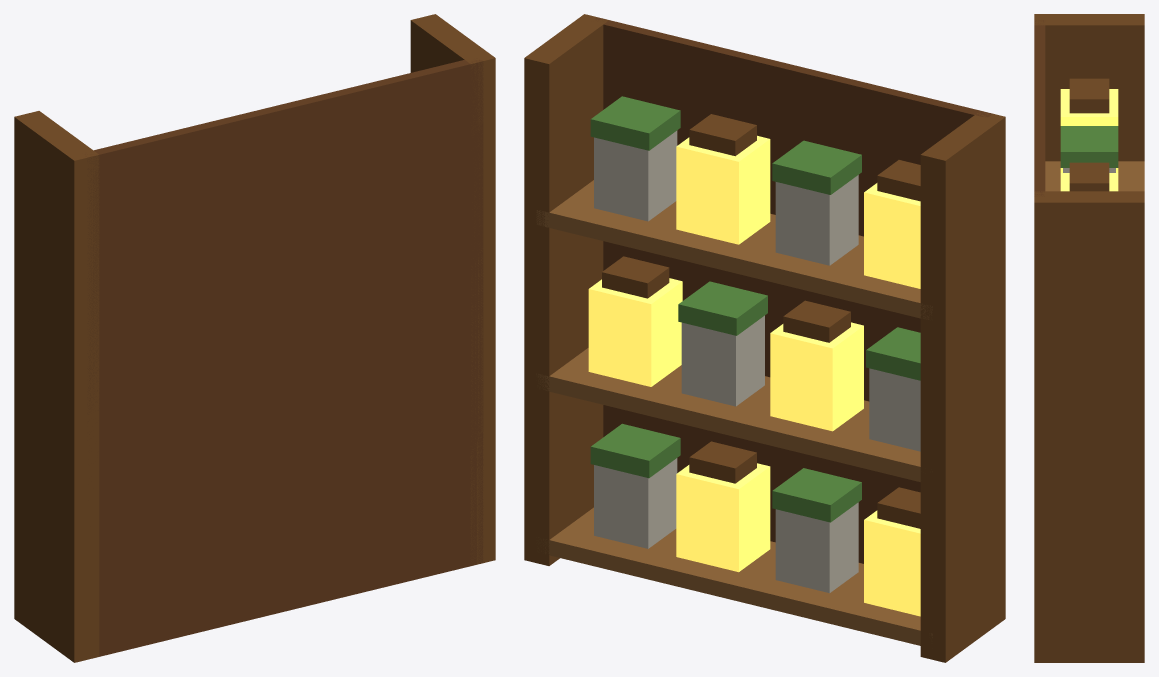
Rendered from nt-jar-shelf.glb.
3 views of the same model, side by side, from view 1: azimuth 30°, elevation 25°; view 2: azimuth 150°, elevation 25°; view 3: azimuth 270°, elevation 25° (orthographic). The views are drawn at different scales.
Visible parts, largest first — view 1: box-prop; view 2: box-prop; view 3: box-prop.
Boxes of the visible parts, x1,y1,x2,y2 form: box-prop: (14,14,495,662); box-prop: (524,14,1005,662); box-prop: (1034,14,1144,662).
Size of the model in its own units: 2.02 by 2.3 by 0.5.
